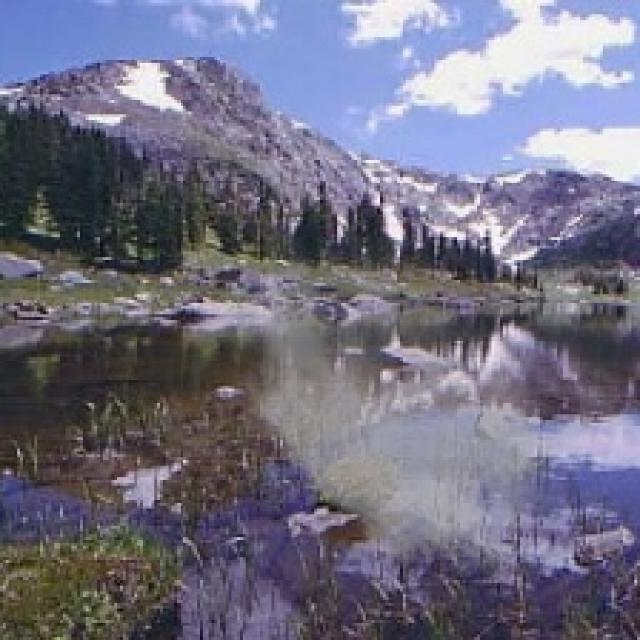smoke: (206, 200, 577, 591)
